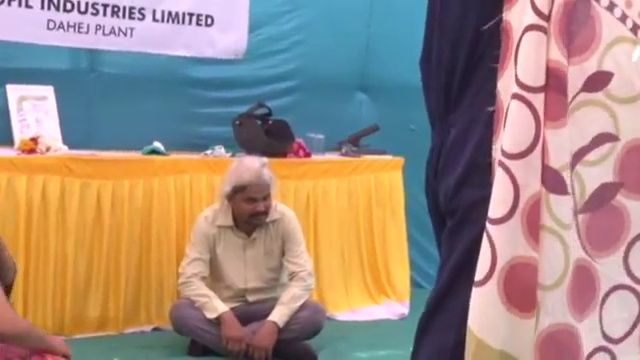helmet_off: (222, 158, 275, 226)
person: (412, 1, 510, 360), (167, 154, 328, 360)
